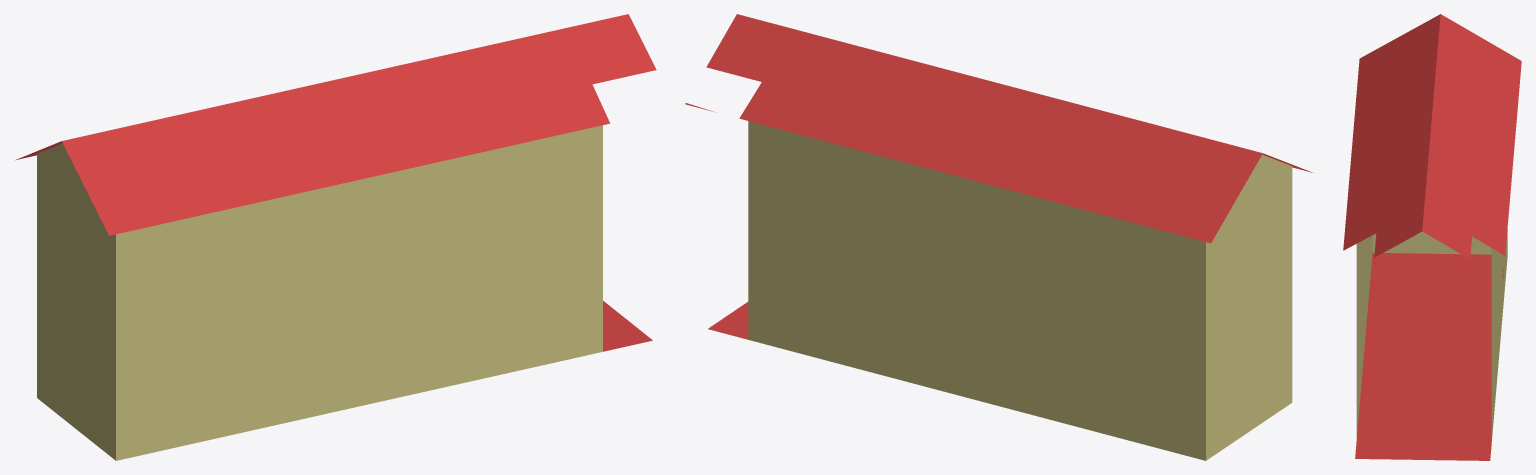
3 renders of one model, left to right at view 1: azimuth 30°, elevation 25°; view 2: azimuth 150°, elevation 25°; view 3: azimuth 270°, elevation 25°, orthographic. The views are drawn at different scales.
Parts seen in each view (by area): view 1: group_5, group_3, group_4, group_6; view 2: group_5, group_3, group_4, group_6; view 3: group_3, group_6, group_5, group_4.
Part boxes in pixels (x1,y1,x2,y2): group_5: [37, 125, 602, 460]; group_3: [15, 14, 656, 235]; group_4: [20, 16, 656, 230]; group_6: [603, 301, 652, 351]; group_5: [748, 121, 1292, 460]; group_3: [685, 14, 1312, 243]; group_4: [686, 15, 1306, 242]; group_6: [708, 302, 748, 339]; group_3: [1343, 14, 1521, 277]; group_6: [1355, 253, 1491, 460]; group_5: [1356, 229, 1507, 441]; group_4: [1344, 18, 1521, 277].
Bounding box in the file's own units: 28.84 × 9.89 × 14.32.
